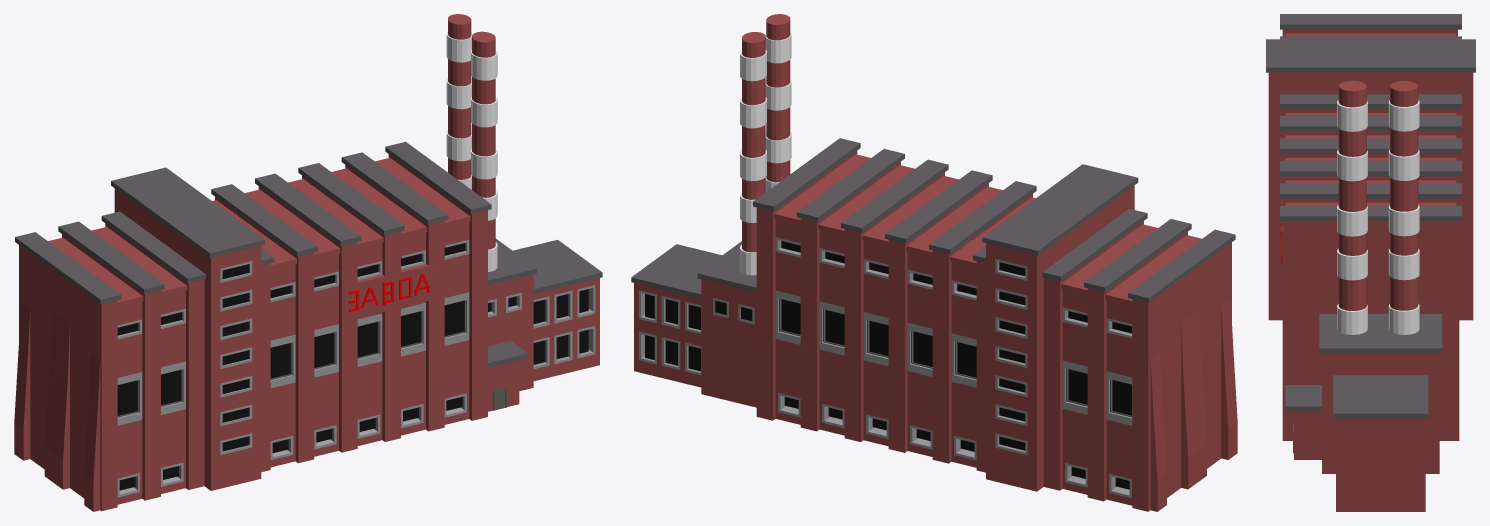
Rendered from pho-nha-may.glb.
The picture shows the model from 3 angles, left to right: view 1: azimuth 30°, elevation 25°; view 2: azimuth 150°, elevation 25°; view 3: azimuth 270°, elevation 25°; orthographic projection. The views are drawn at different scales.
Parts seen in each view (by area): view 1: pho-nha-may; view 2: pho-nha-may; view 3: pho-nha-may.
Part boxes in pixels (<box>): pho-nha-may: <box>14,14,602,511</box>; pho-nha-may: <box>631,14,1237,511</box>; pho-nha-may: <box>1266,14,1475,511</box>.
Bounding box in the file's own units: 138 × 86.66 × 44.59.
